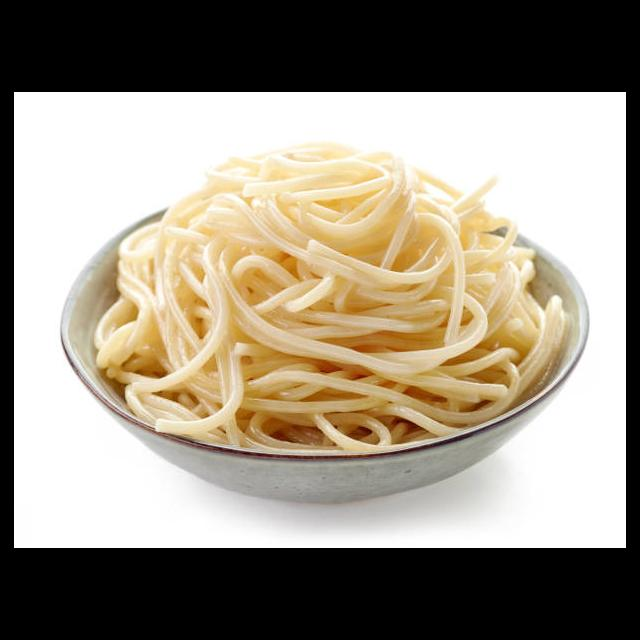noodles: (92, 141, 567, 449)
